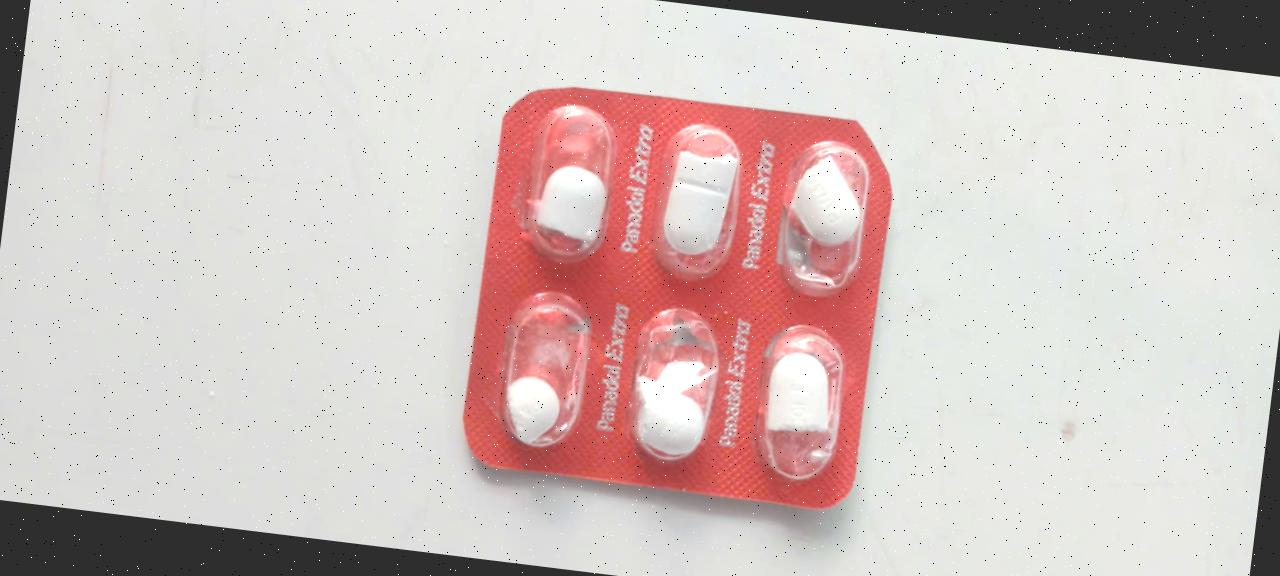Partial: (760, 124, 899, 304), (733, 310, 872, 490), (502, 95, 640, 275), (632, 106, 770, 286), (597, 288, 735, 468), (477, 280, 615, 460)
